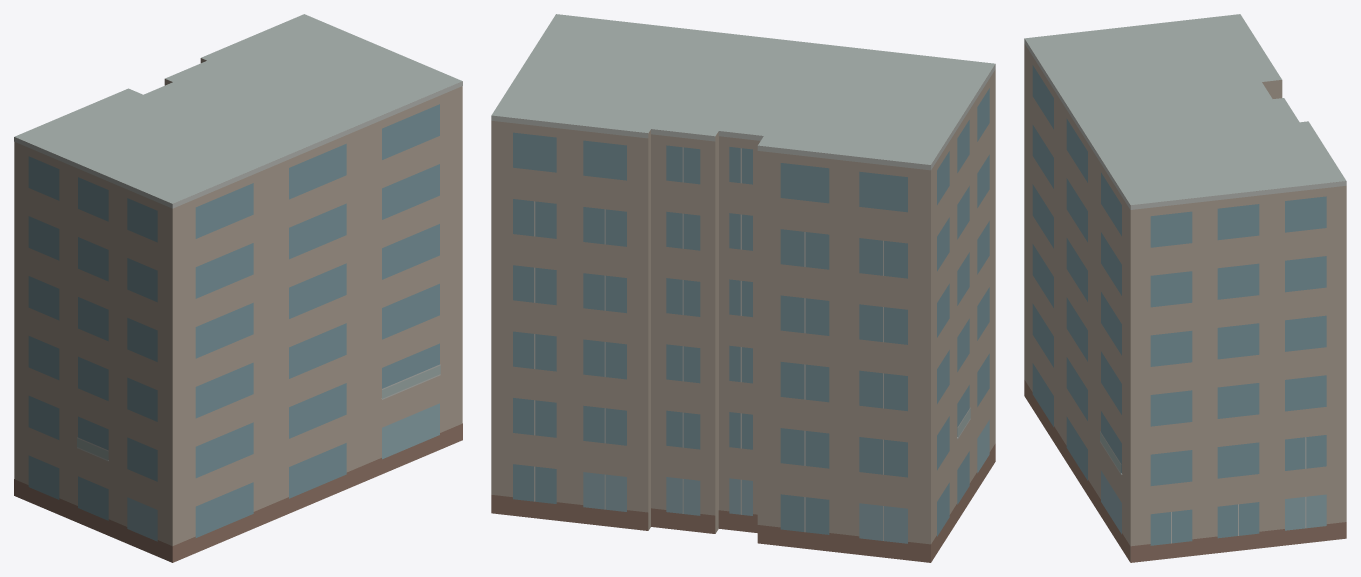
The model's file is survey-upis-32947497.glb.
3 views of the same model, side by side, from view 1: azimuth 30°, elevation 25°; view 2: azimuth 150°, elevation 25°; view 3: azimuth 270°, elevation 25° (orthographic). The views are drawn at different scales.
Visible parts, largest first — view 1: survey-upis-32947497.tmp; view 2: survey-upis-32947497.tmp; view 3: survey-upis-32947497.tmp.
Boxes of the visible parts, x1,y1,x2,y2 form: survey-upis-32947497.tmp: (14,14,462,562); survey-upis-32947497.tmp: (491,14,995,562); survey-upis-32947497.tmp: (1024,14,1346,562).
Size of the model in its own units: 21 by 18.3 by 14.95.
